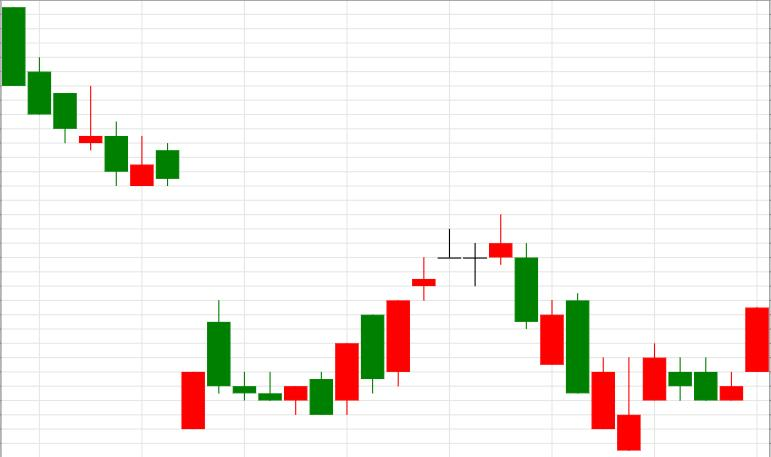inverse_hammer_rise: (489, 215, 641, 451)
